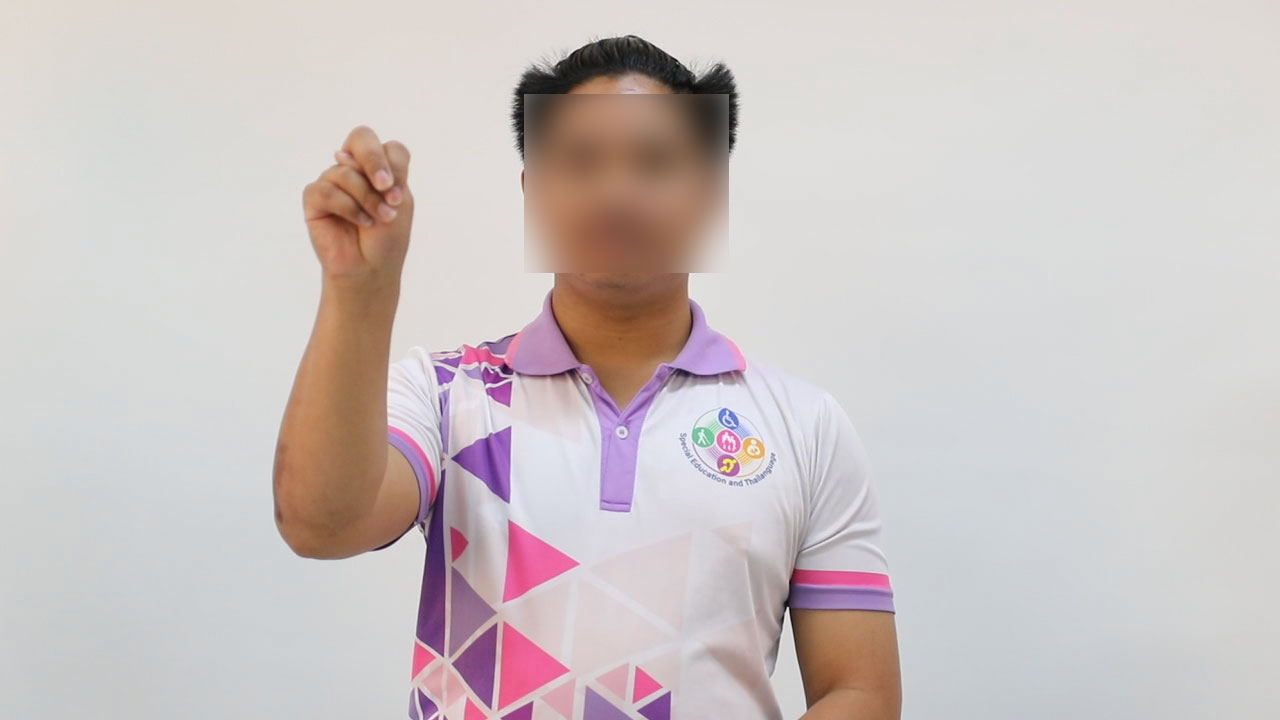nor: (293, 121, 423, 293)
